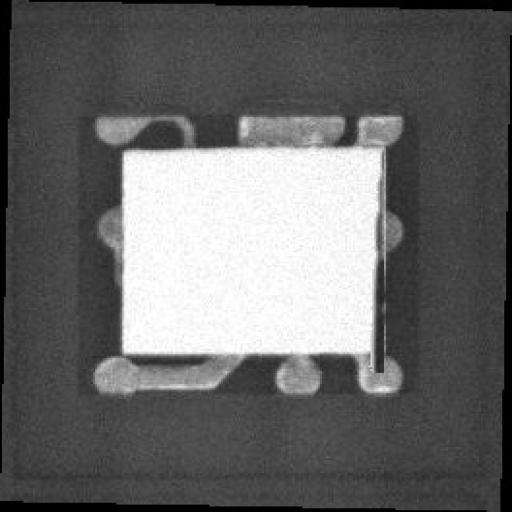DIE_BROKEN: (366, 208, 388, 374)
